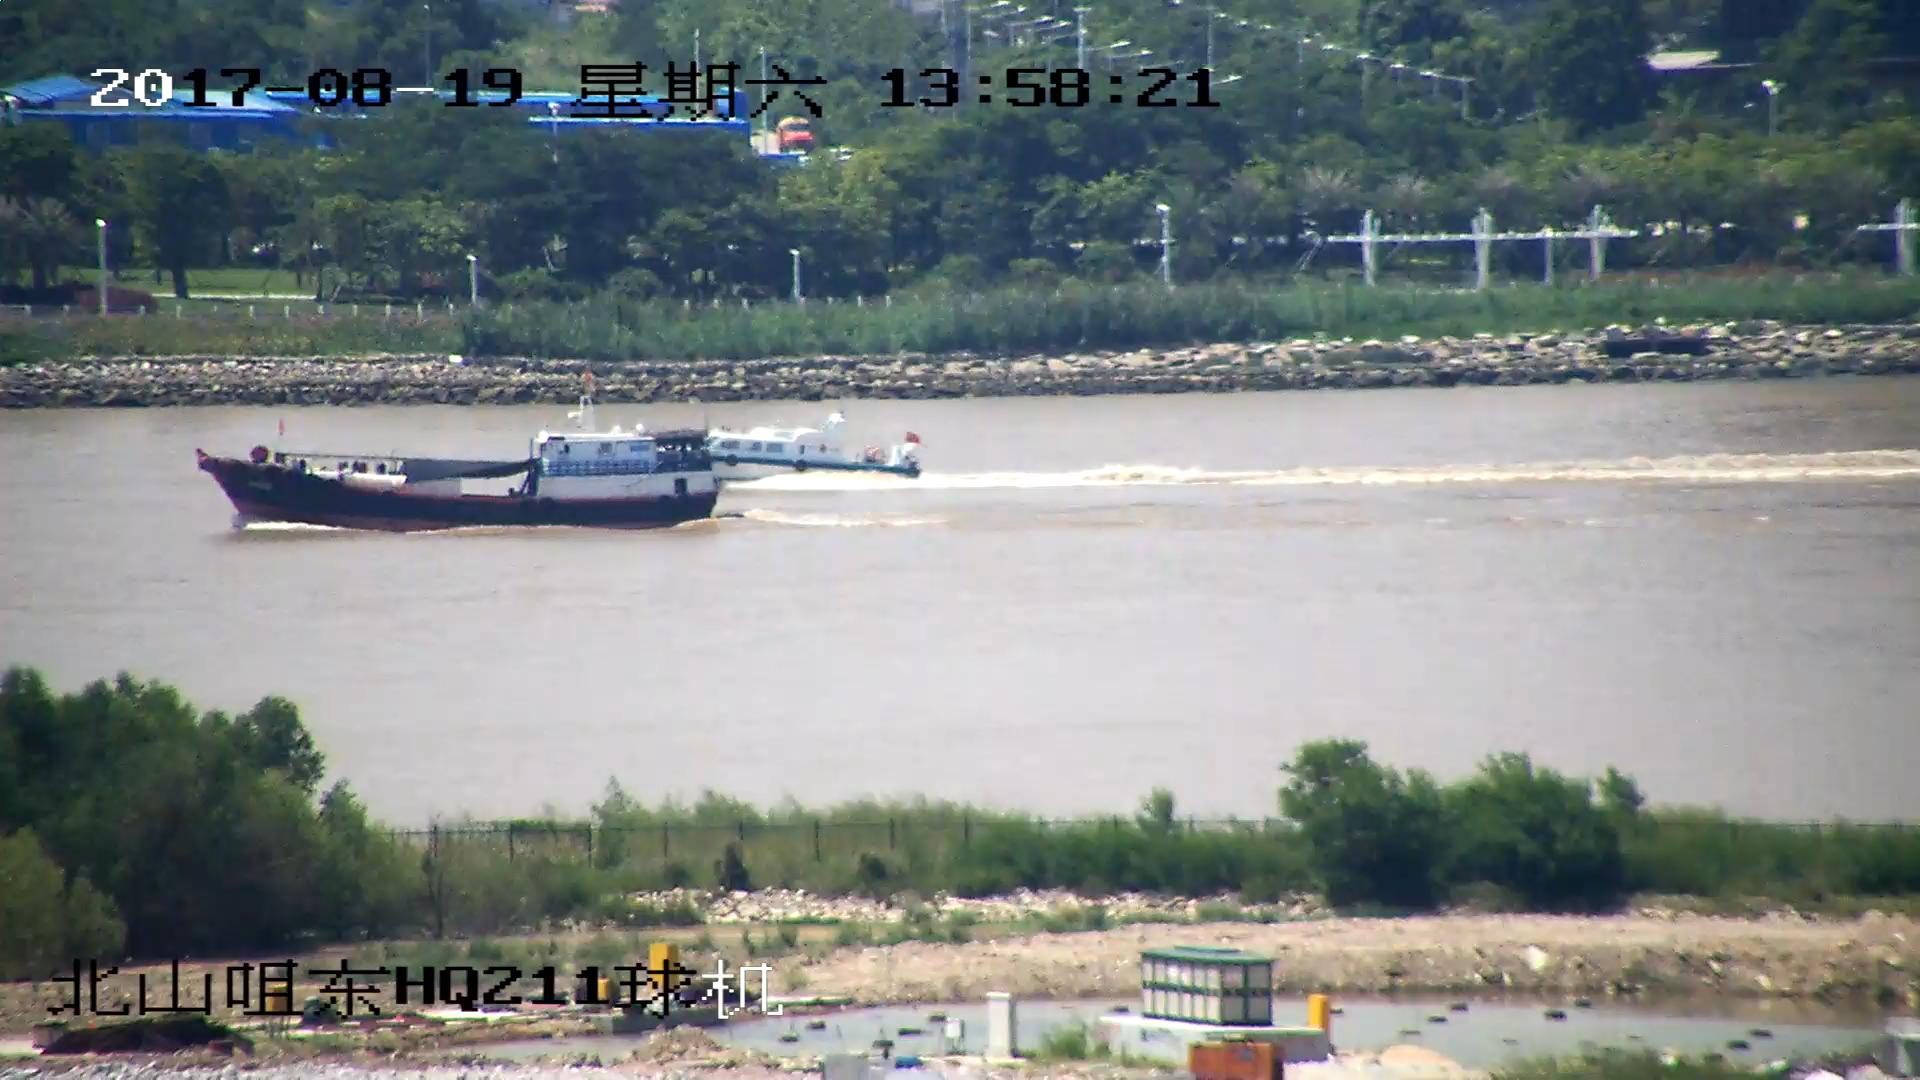fishing boat: (198, 392, 722, 525)
passenger ship: (722, 414, 916, 482)
